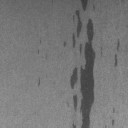red iron: (70, 0, 96, 128), (116, 38, 120, 51), (114, 54, 118, 66), (38, 76, 40, 86), (112, 119, 114, 126), (64, 41, 66, 46)
